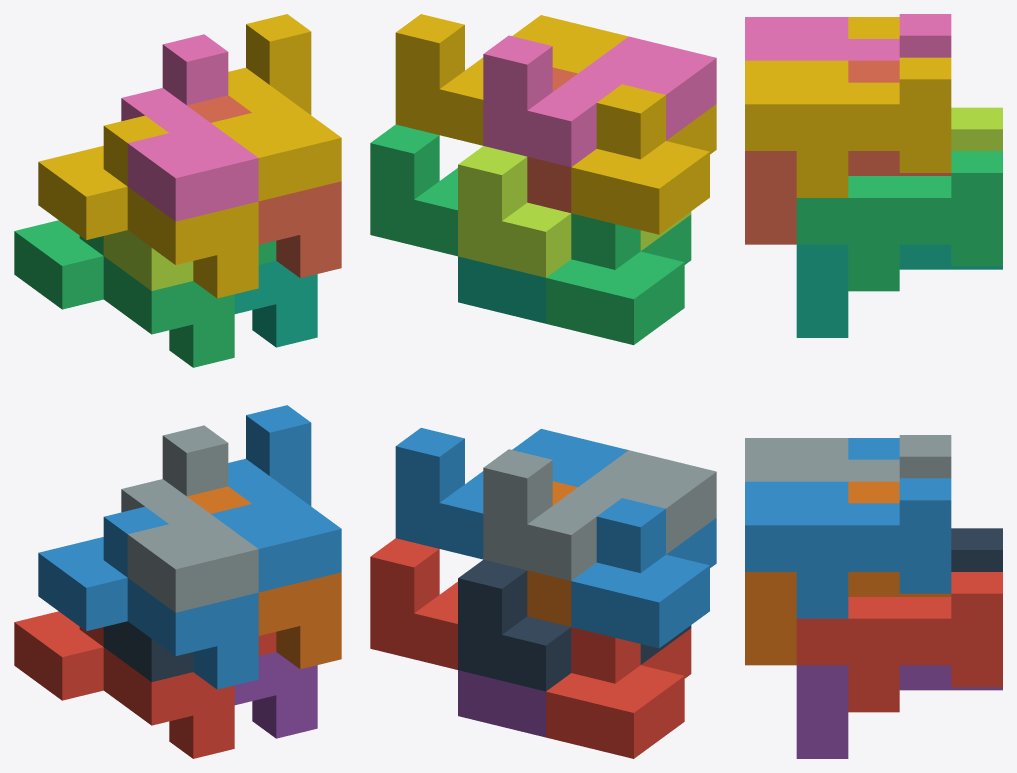
Rendered from tiling.obj.
The picture shows the model from 3 angles, left to right: view 1: azimuth 30°, elevation 25°; view 2: azimuth 150°, elevation 25°; view 3: azimuth 270°, elevation 25°; orthographic projection. The views are drawn at different scales.
Parts seen in each view (by area): view 1: copy_1_domain_2, copy_1_domain_4, copy_2_domain_2, copy_2_domain_4, copy_2_domain_6, copy_2_domain_8, copy_1_domain_3, copy_1_domain_1, copy_1_domain_6, copy_1_domain_8, copy_1_domain_5, copy_1_domain_7 (+2 smaller); view 2: copy_2_domain_2, copy_2_domain_4, copy_1_domain_4, copy_1_domain_2, copy_1_domain_1, copy_1_domain_3, copy_2_domain_8, copy_2_domain_6, copy_2_domain_1, copy_2_domain_3, copy_2_domain_5, copy_2_domain_7 (+4 smaller); view 3: copy_2_domain_6, copy_2_domain_8, copy_2_domain_5, copy_2_domain_7, copy_2_domain_2, copy_2_domain_4, copy_1_domain_6, copy_1_domain_8, copy_1_domain_5, copy_1_domain_7, copy_2_domain_1, copy_2_domain_3 (+2 smaller).
Part boxes in pixels (left/top/right/bottom): copy_1_domain_2: left=38, top=506, right=258, bottom=689; copy_1_domain_4: left=38, top=115, right=258, bottom=298; copy_2_domain_2: left=121, top=425, right=258, bottom=612; copy_2_domain_4: left=121, top=34, right=258, bottom=221; copy_2_domain_6: left=211, top=405, right=341, bottom=592; copy_2_domain_8: left=211, top=14, right=341, bottom=201; copy_1_domain_3: left=14, top=220, right=234, bottom=367; copy_1_domain_1: left=14, top=611, right=234, bottom=758; copy_1_domain_6: left=187, top=486, right=341, bottom=669; copy_1_domain_8: left=187, top=95, right=341, bottom=278; copy_1_domain_5: left=234, top=652, right=317, bottom=738; copy_1_domain_7: left=234, top=261, right=317, bottom=347; copy_2_domain_2: left=483, top=449, right=716, bottom=580; copy_2_domain_4: left=483, top=35, right=716, bottom=167; copy_1_domain_4: left=571, top=84, right=716, bottom=234; copy_1_domain_2: left=571, top=498, right=716, bottom=648; copy_1_domain_1: left=546, top=627, right=691, bottom=758; copy_1_domain_3: left=546, top=213, right=691, bottom=345; copy_2_domain_8: left=395, top=14, right=628, bottom=145; copy_2_domain_6: left=395, top=428, right=628, bottom=559; copy_2_domain_1: left=458, top=559, right=691, bottom=691; copy_2_domain_3: left=458, top=146, right=691, bottom=277; copy_2_domain_5: left=370, top=538, right=457, bottom=669; copy_2_domain_7: left=370, top=124, right=457, bottom=256; copy_2_domain_6: left=745, top=478, right=951, bottom=618; copy_2_domain_8: left=745, top=57, right=951, bottom=197; copy_2_domain_5: left=796, top=572, right=1002, bottom=712; copy_2_domain_7: left=796, top=151, right=1002, bottom=291; copy_2_domain_2: left=745, top=435, right=951, bottom=481; copy_2_domain_4: left=745, top=14, right=951, bottom=60; copy_1_domain_6: left=745, top=481, right=951, bottom=665; copy_1_domain_8: left=745, top=60, right=951, bottom=244; copy_1_domain_5: left=796, top=665, right=1002, bottom=758; copy_1_domain_7: left=796, top=244, right=1002, bottom=337; copy_2_domain_1: left=951, top=528, right=1002, bottom=571; copy_2_domain_3: left=951, top=107, right=1002, bottom=150.
Size of the model in its own units: 6 by 15 by 5.
